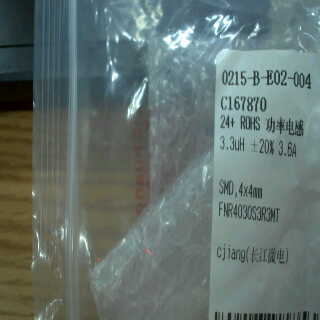3.3uH: (215, 133, 246, 156)
